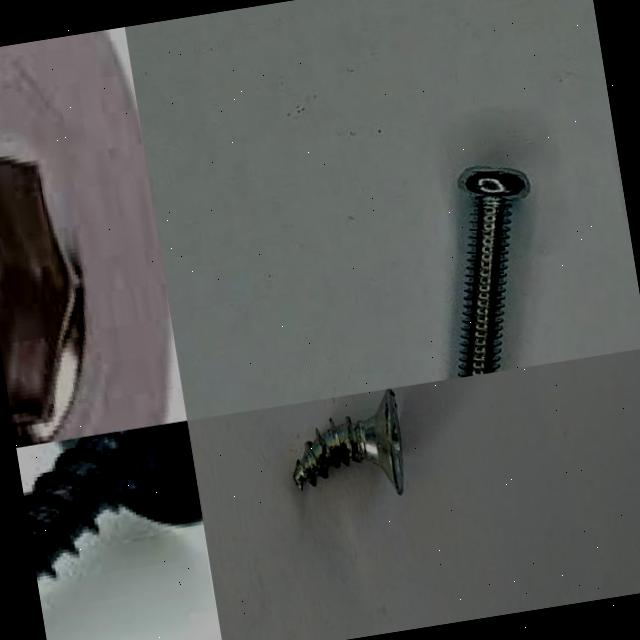Screw: (0, 29, 183, 448), (24, 421, 203, 584), (459, 168, 530, 378), (293, 388, 404, 494)
